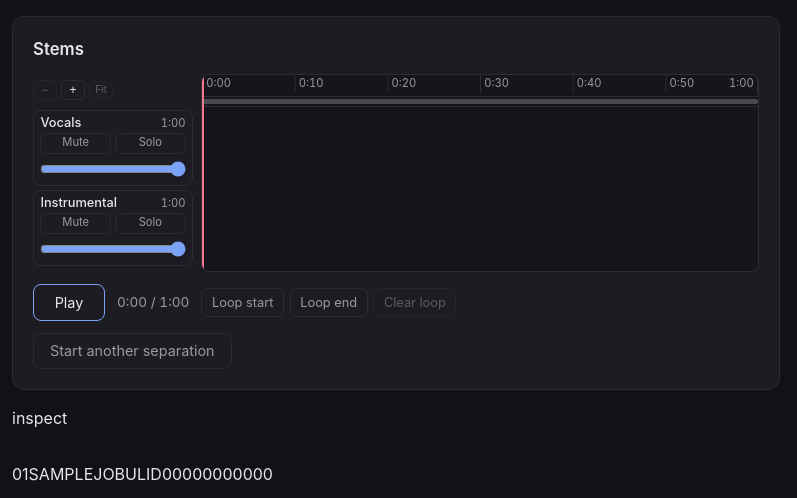
Test: StemPlayer transport › reads the playhead off the engine on every animation frame
The width and height of the screenshot is (797, 498).
Expected: the button with aria-label "Mute vocals" is shown, [40,133,111,154]
Click the button "Play".
click(69, 302)  # box [33,284,105,321]
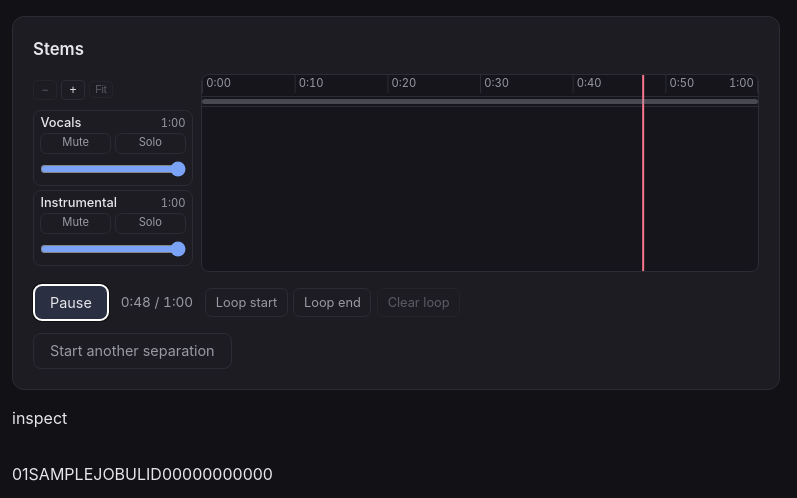
Expected: the text "0:48 / 1:00" is shown, [121,292,193,313]
